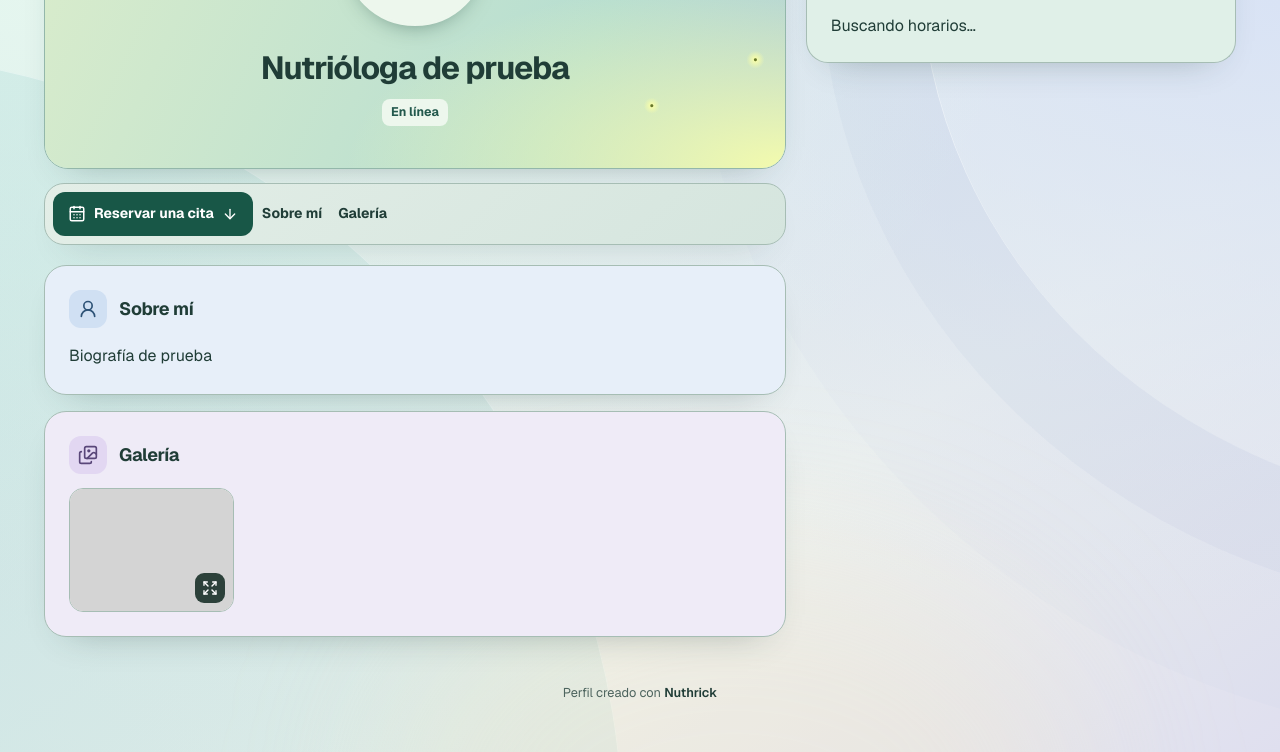
Test: shows a single existing photo without carousel arrows
The image size is (1280, 752).
(page scrolled)
Click the button named "Ampliar imagen 1": (152, 550) [69,488,234,612]
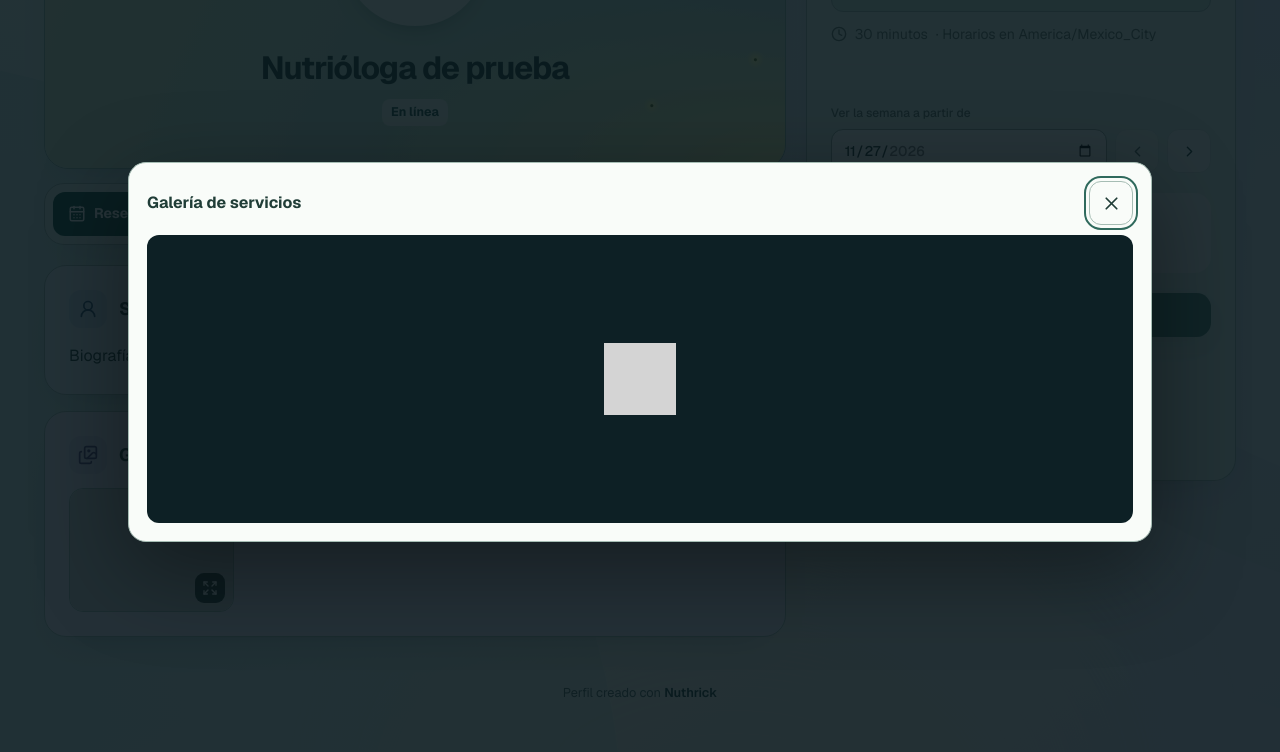
Click the button named "Cerrar galería": (1111, 203) [1089,181,1133,225]
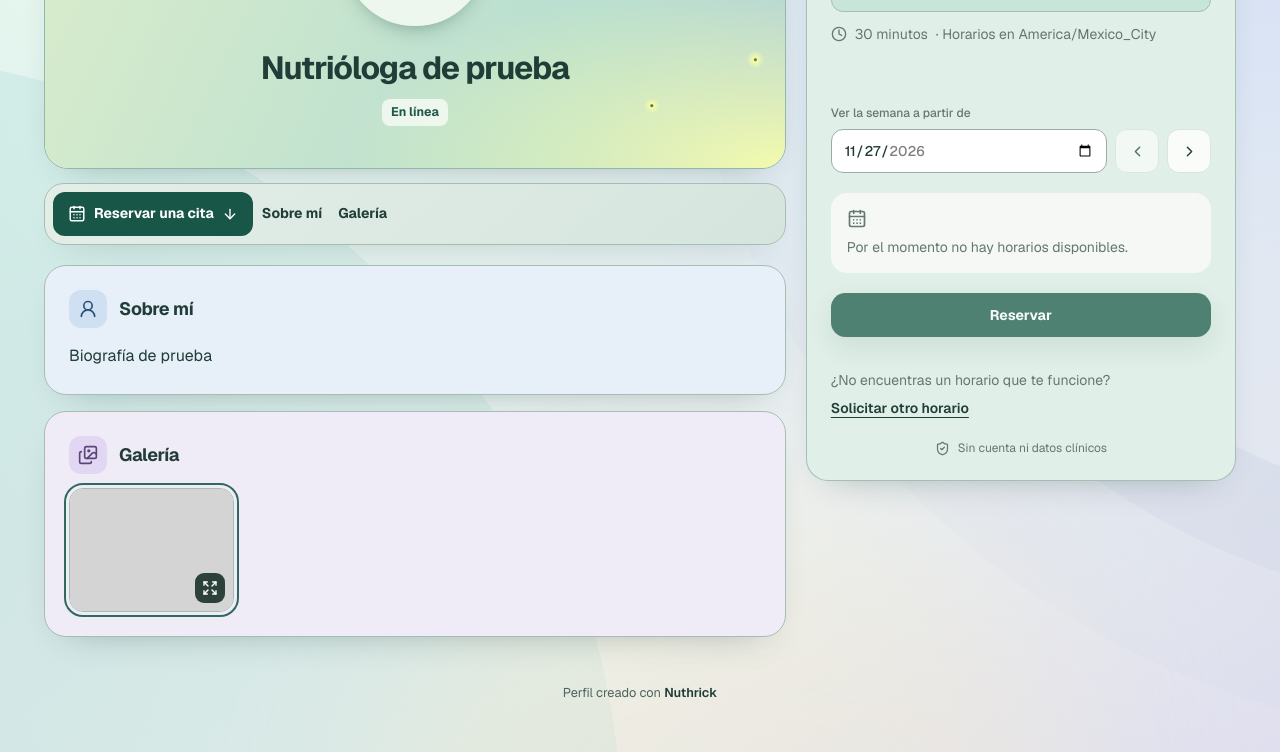
Expected: the dialog is gone
